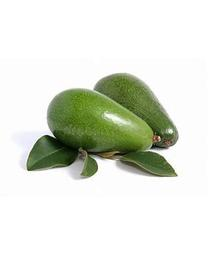avocado: (46, 87, 156, 159), (93, 71, 180, 151)
